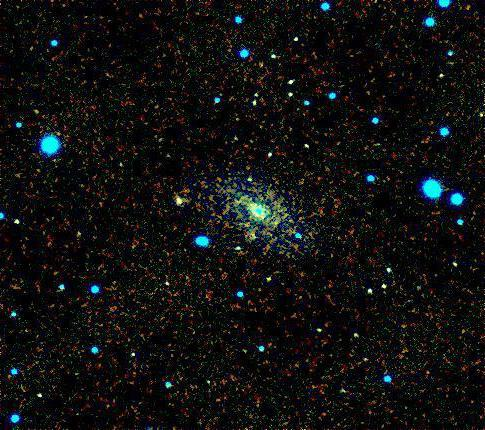star: (259, 209, 289, 239)
